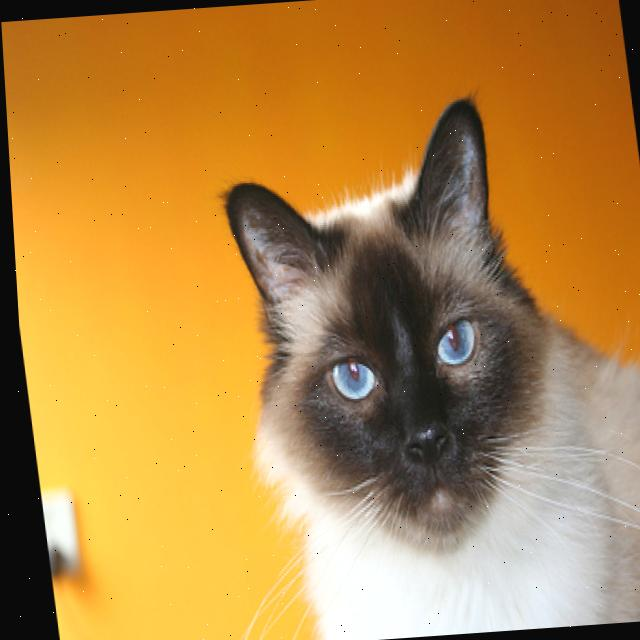Birman: (207, 76, 640, 640)
